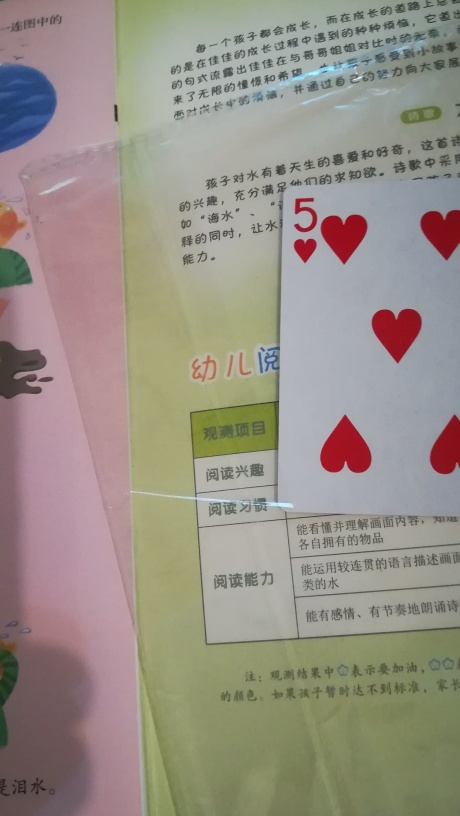hx 5: (275, 183, 460, 517)
